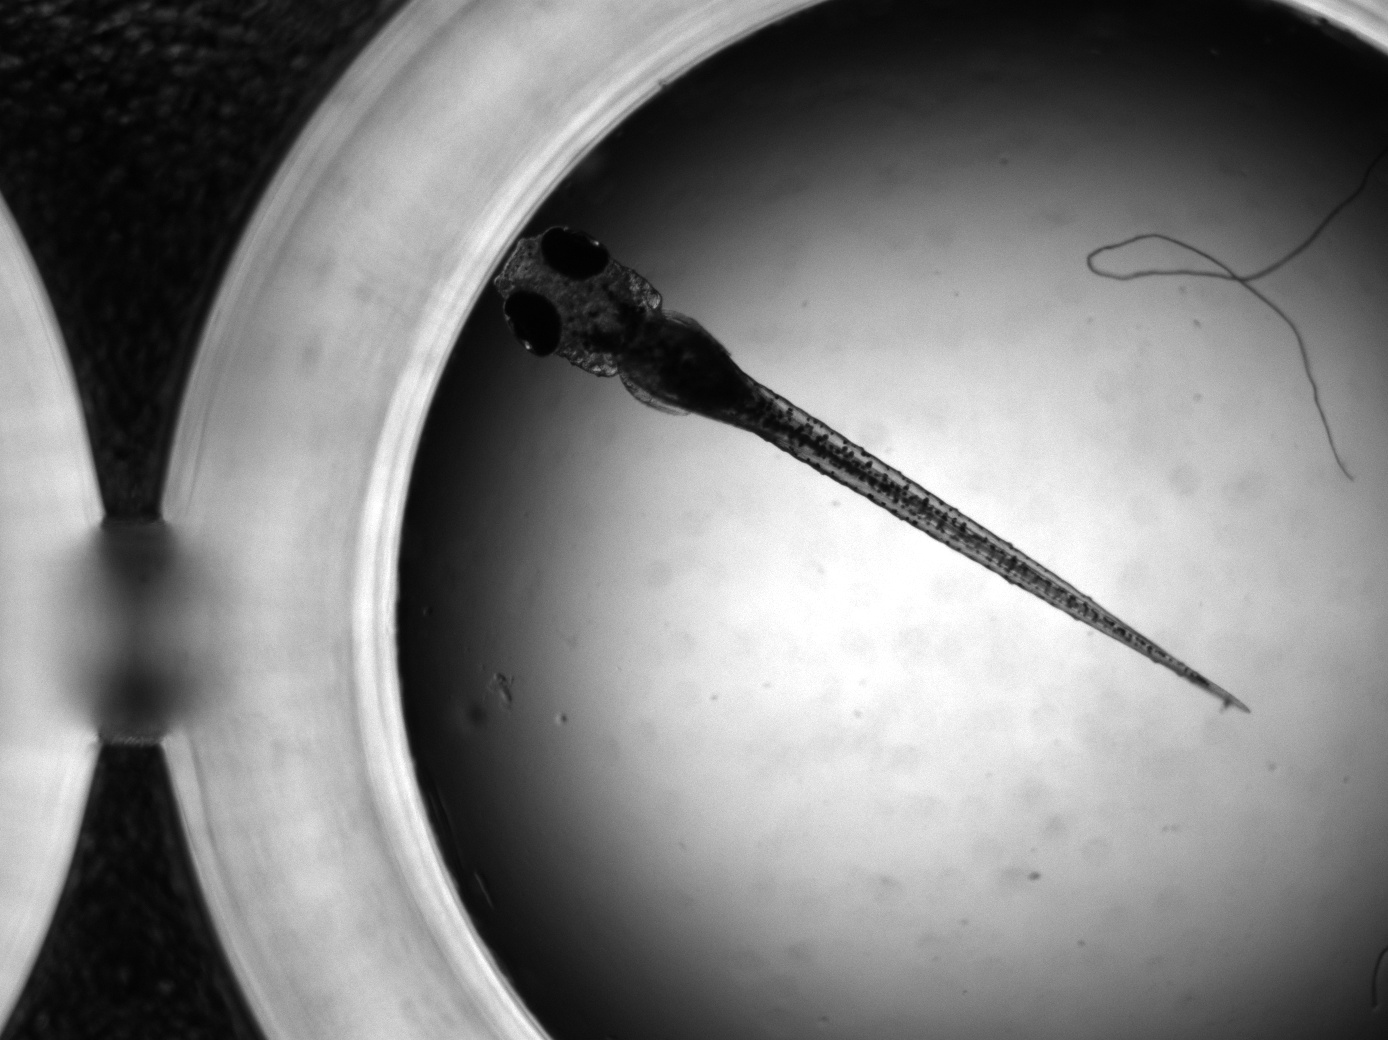debris: (1084, 156, 1383, 487)
embryo: (491, 225, 1255, 716)
eye: (503, 288, 562, 356), (539, 226, 610, 280)
yolksac: (618, 311, 756, 424)
